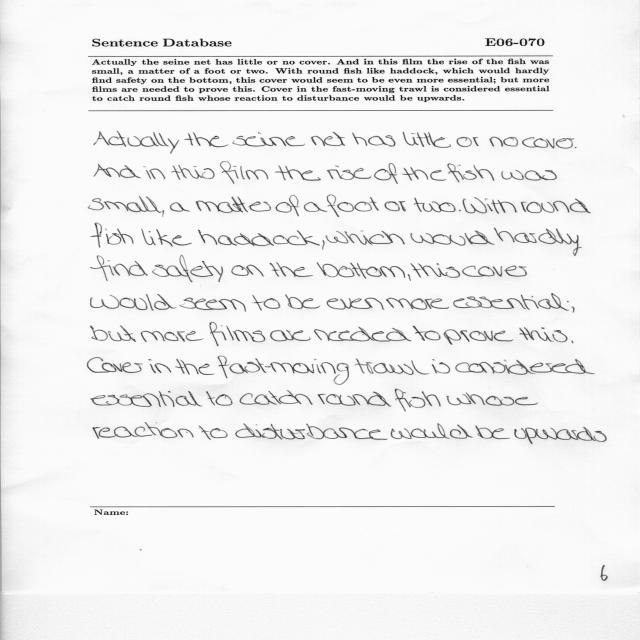word: (198, 356, 349, 385), (235, 423, 388, 440), (494, 228, 582, 256), (455, 359, 595, 375), (453, 293, 569, 311), (198, 230, 320, 246), (152, 255, 223, 282), (94, 132, 179, 154), (91, 391, 203, 407), (93, 422, 194, 439), (317, 263, 411, 281), (514, 427, 607, 444), (91, 255, 148, 281), (314, 327, 411, 342), (91, 294, 176, 311), (411, 230, 495, 246), (210, 323, 266, 347), (391, 423, 474, 439), (446, 392, 538, 406), (88, 196, 162, 213), (196, 197, 271, 213), (355, 359, 429, 375), (327, 195, 379, 217), (444, 329, 514, 345), (239, 390, 313, 405), (318, 392, 392, 407), (326, 231, 405, 245), (233, 132, 306, 147), (91, 223, 134, 248), (220, 162, 268, 184), (395, 389, 441, 411), (521, 199, 591, 213), (179, 298, 246, 312), (463, 197, 517, 214), (141, 229, 192, 247), (87, 357, 143, 373), (448, 164, 495, 183), (403, 132, 452, 148), (462, 265, 527, 277), (91, 325, 136, 342), (386, 298, 449, 310), (519, 327, 568, 342), (327, 298, 385, 310), (275, 166, 321, 181), (141, 331, 203, 342), (327, 165, 372, 180), (184, 132, 228, 147), (171, 165, 215, 180), (269, 262, 313, 277), (94, 164, 141, 178), (414, 198, 456, 213), (418, 263, 460, 278), (522, 137, 574, 149), (402, 167, 446, 181), (501, 170, 557, 181), (352, 133, 395, 147), (285, 294, 320, 309), (374, 163, 398, 184), (276, 195, 300, 216), (475, 426, 510, 440), (311, 132, 345, 146), (270, 330, 311, 341), (199, 425, 228, 440), (253, 295, 281, 310), (413, 326, 441, 341), (206, 391, 233, 406), (175, 359, 199, 375), (231, 265, 264, 276), (148, 359, 172, 373), (144, 166, 166, 179), (490, 137, 518, 147), (432, 359, 450, 374), (304, 202, 328, 212), (457, 137, 479, 147), (384, 201, 406, 211), (170, 202, 190, 212), (411, 263, 421, 278), (567, 301, 575, 313), (322, 240, 325, 250), (163, 210, 165, 217), (571, 341, 573, 344), (459, 210, 461, 212), (575, 147, 577, 148)
